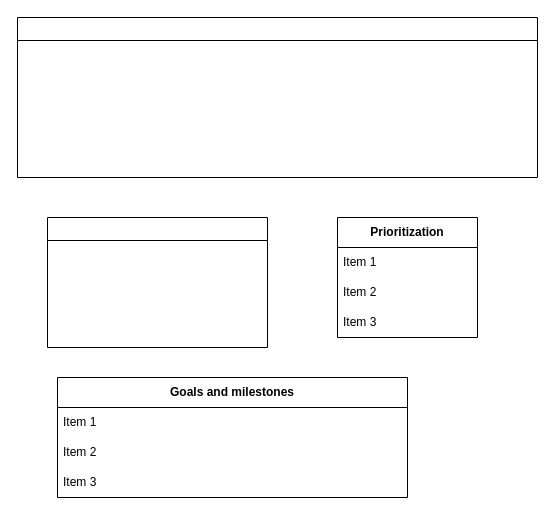
This 555x515 diagram has some shape labels left out. Here are the shapes that lost their labels. From the top down, the centre of each, then its label:
(277,97): Functional description
(157,282): User interface
